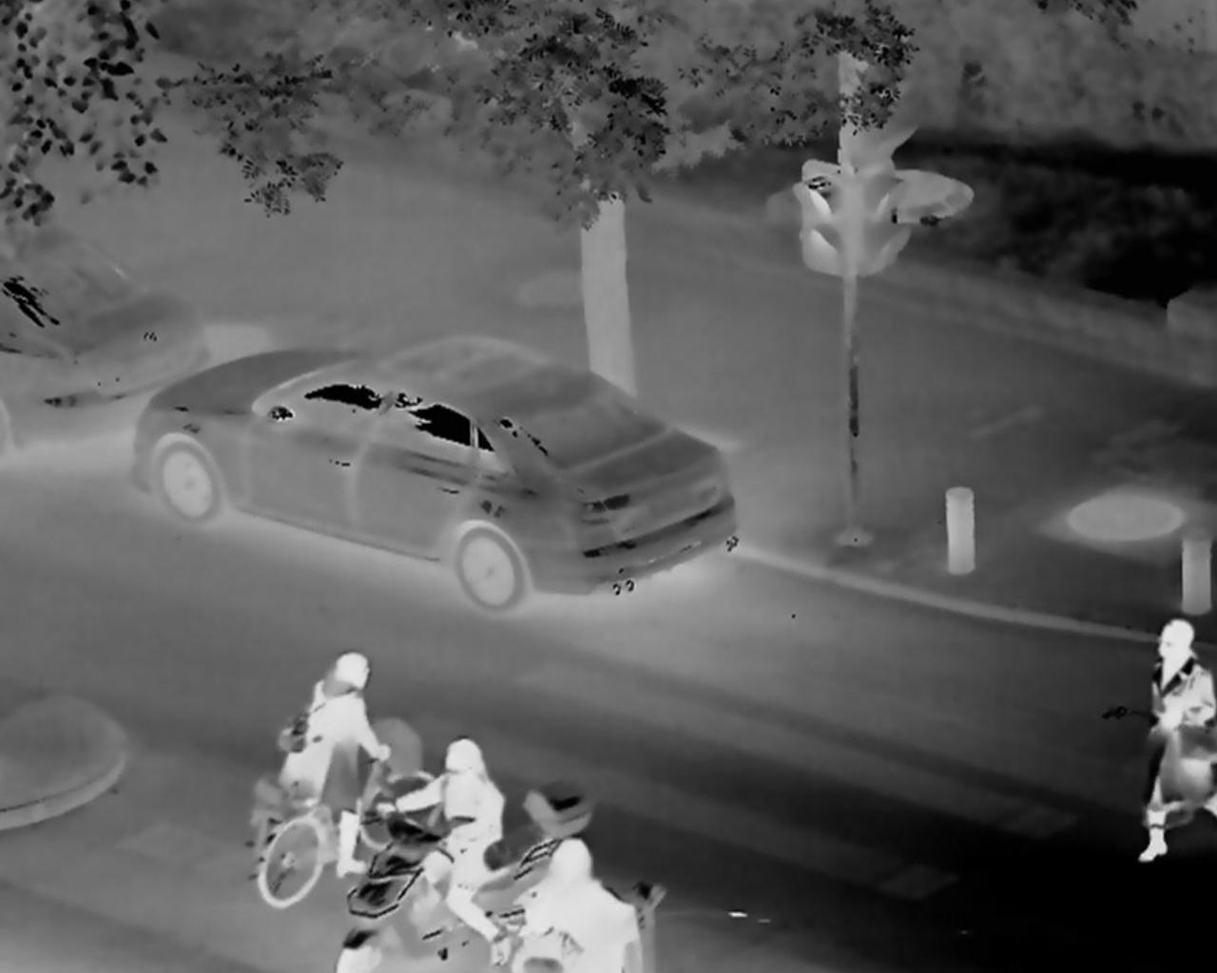person: (380, 725, 522, 966), (1107, 619, 1217, 881), (261, 644, 376, 891), (522, 838, 686, 973)
